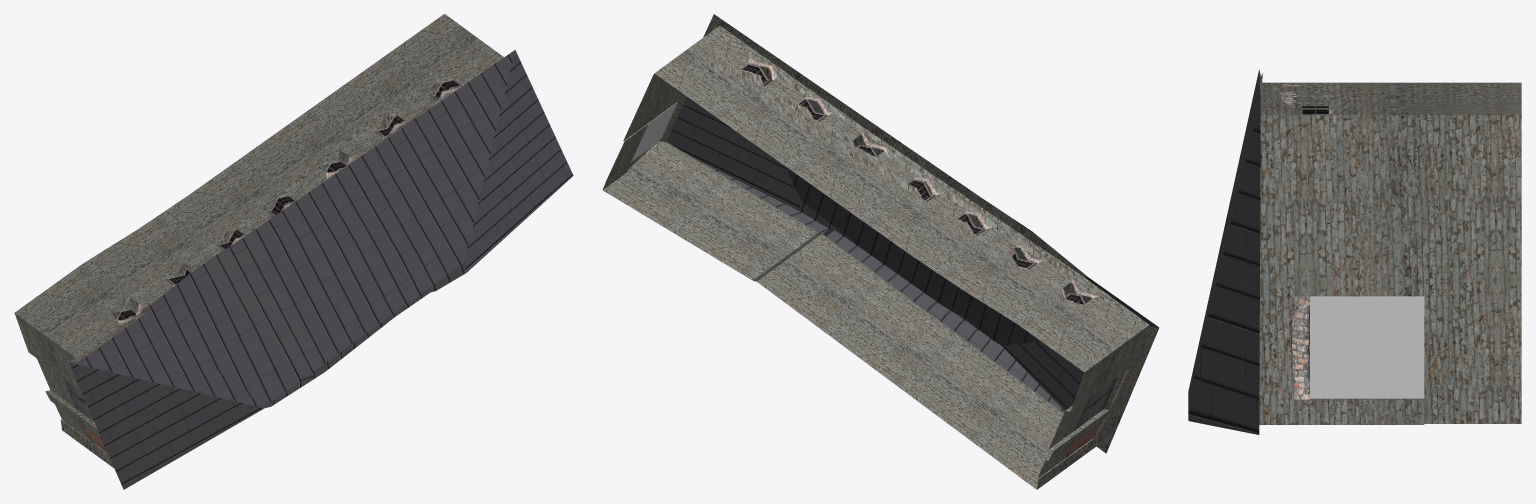
The model's file is Kooli_9_2-origo.obj.
The picture shows the model from 3 angles, left to right: view 1: azimuth 30°, elevation 25°; view 2: azimuth 150°, elevation 25°; view 3: azimuth 270°, elevation 25°; orthographic projection. The views are drawn at different scales.
Parts seen in each view (by area): view 1: Kooli_9_2; view 2: Kooli_9_2; view 3: Kooli_9_2.
Boxes of the visible parts, bbox=[...] form: Kooli_9_2: bbox=[14, 14, 573, 489]; Kooli_9_2: bbox=[602, 14, 1159, 489]; Kooli_9_2: bbox=[1188, 69, 1521, 434].
Size of the model in its own units: 24.5 by 16 by 7.01.
